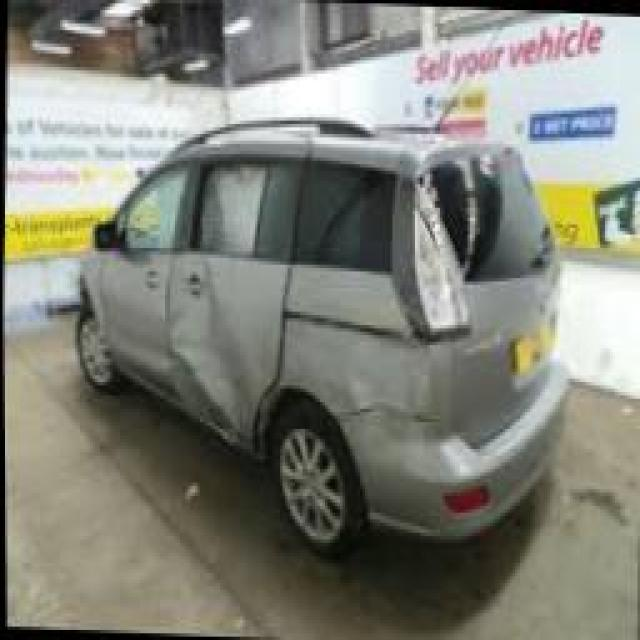rapairable: (350, 320, 438, 438)
replaceable: (182, 276, 272, 438)
